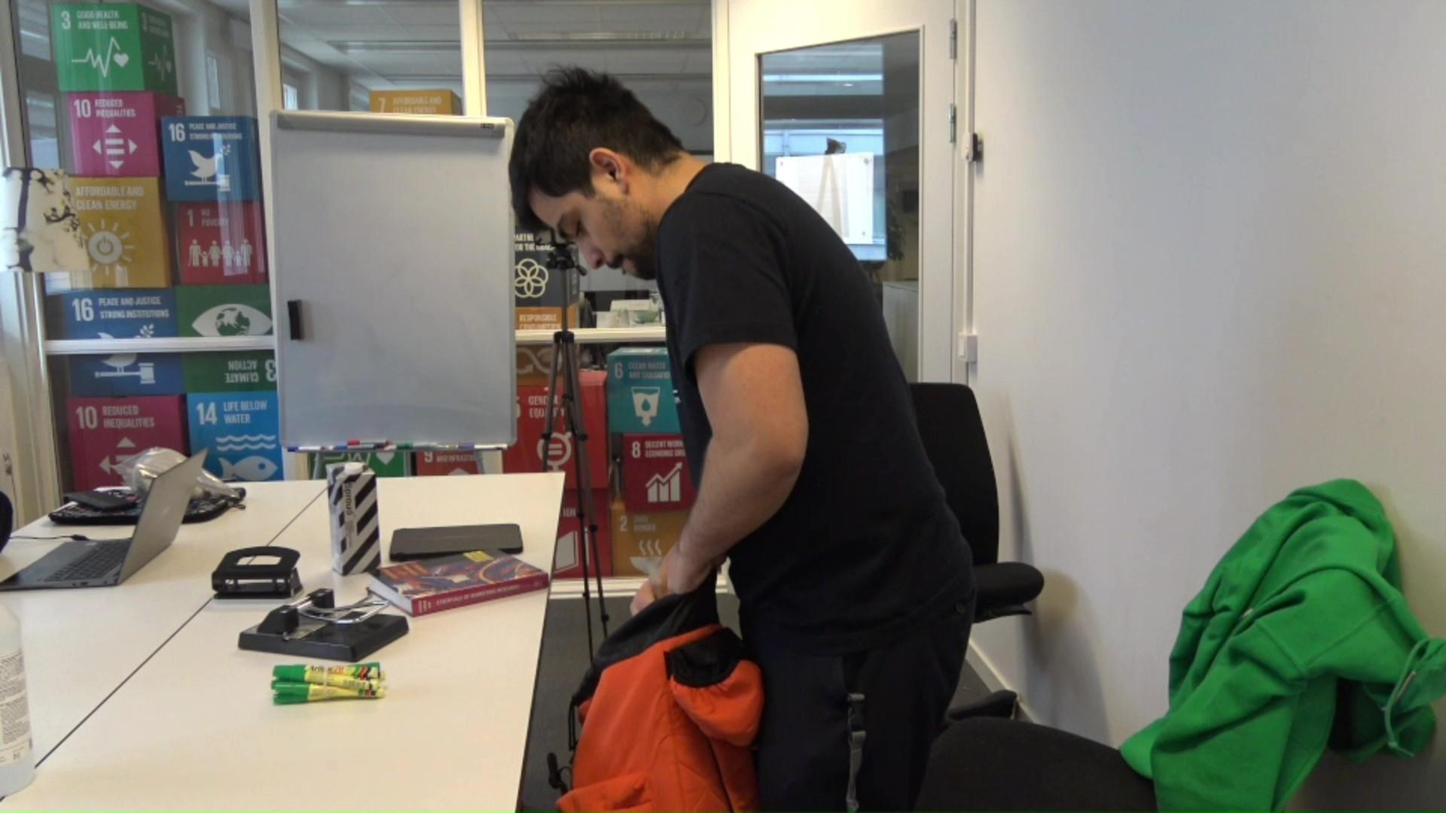shoplifting: (509, 74, 957, 813)
